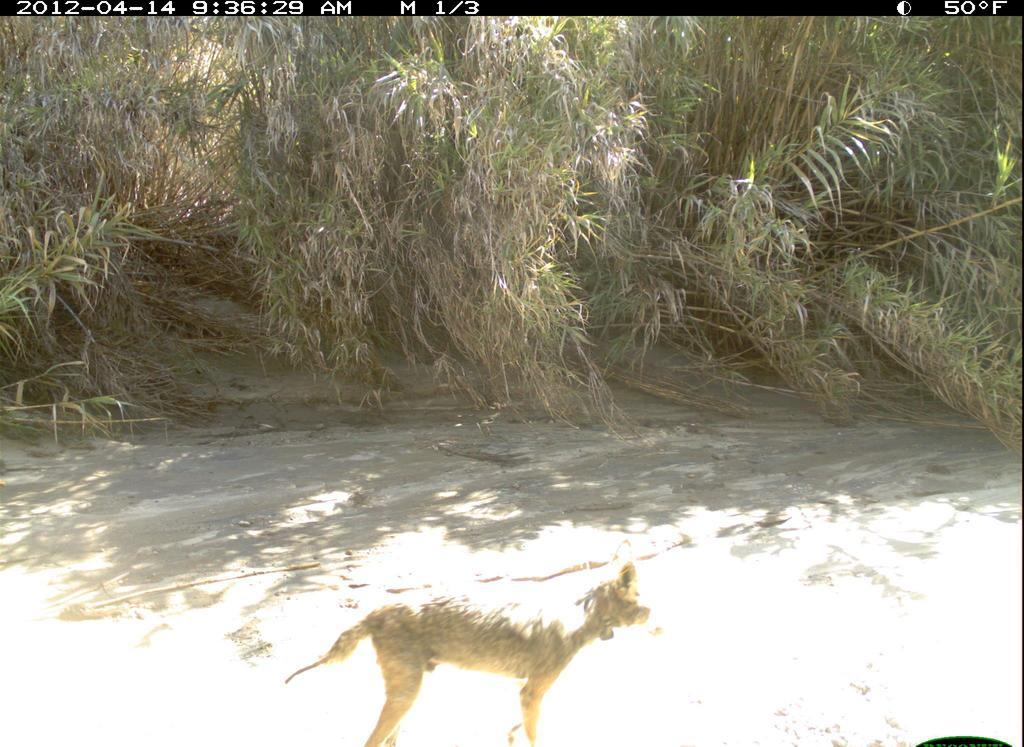coyote: (280, 557, 661, 747)
